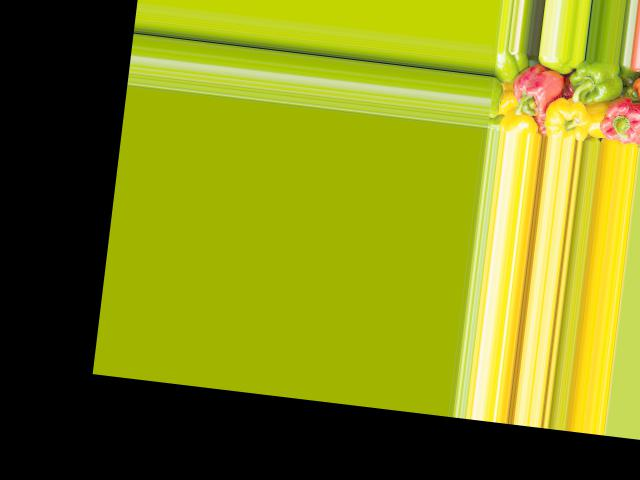bell_pepper: (593, 93, 640, 145)
